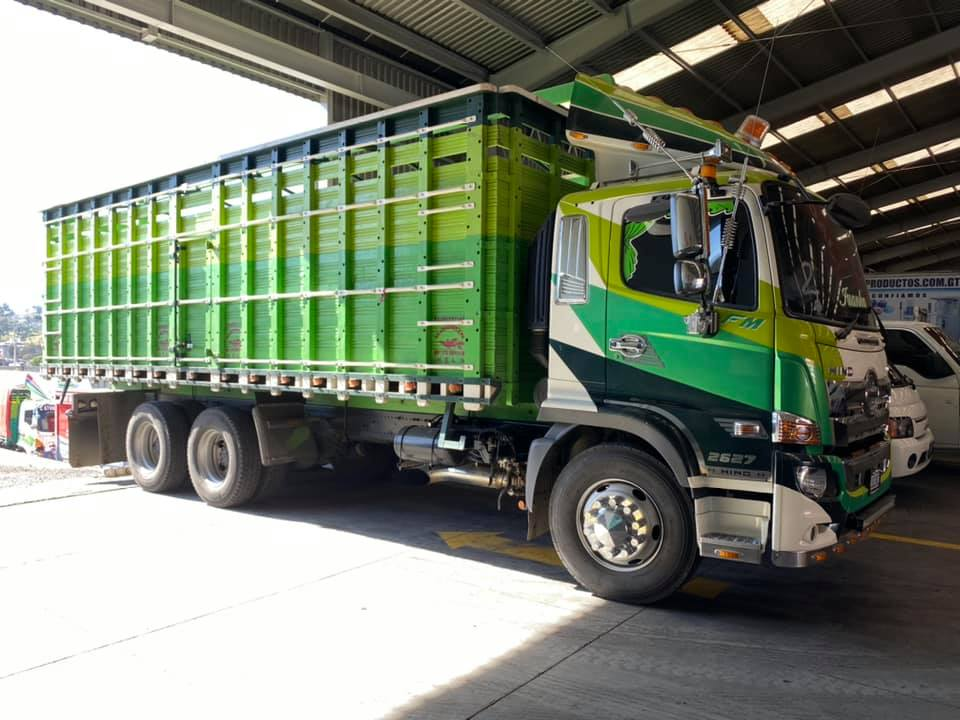camion: (37, 76, 898, 605)
